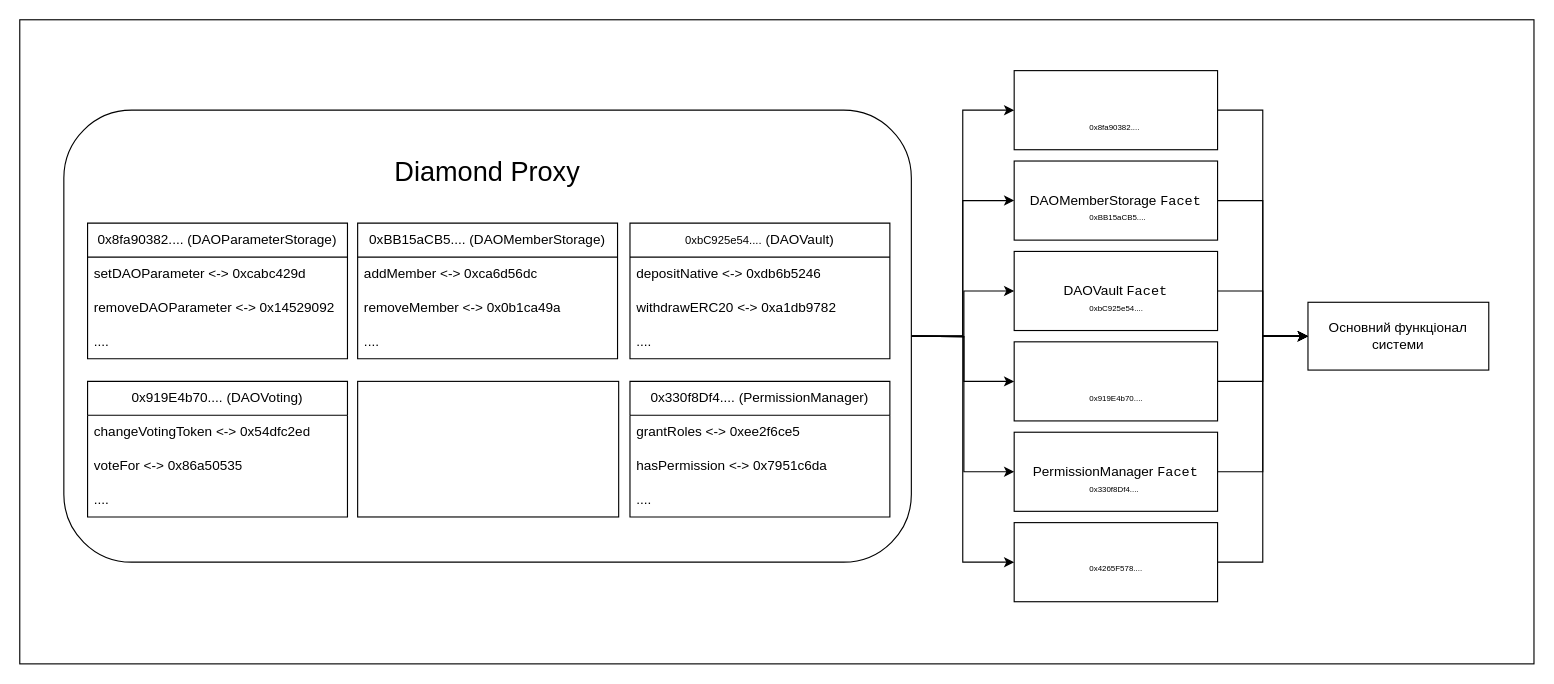
Image size: 1554x684. Some labels were removed from this diagram. The box of each missing label's shape, as (x1, y1, x2, y2) in pixels:
DAOParameterStorage Facet: (1013, 69, 1218, 150)
DAOVoting Facet: (1013, 341, 1218, 421)
Diamond DAO: (357, 380, 619, 517)
DiamondDAO Facet: (1013, 521, 1218, 602)
